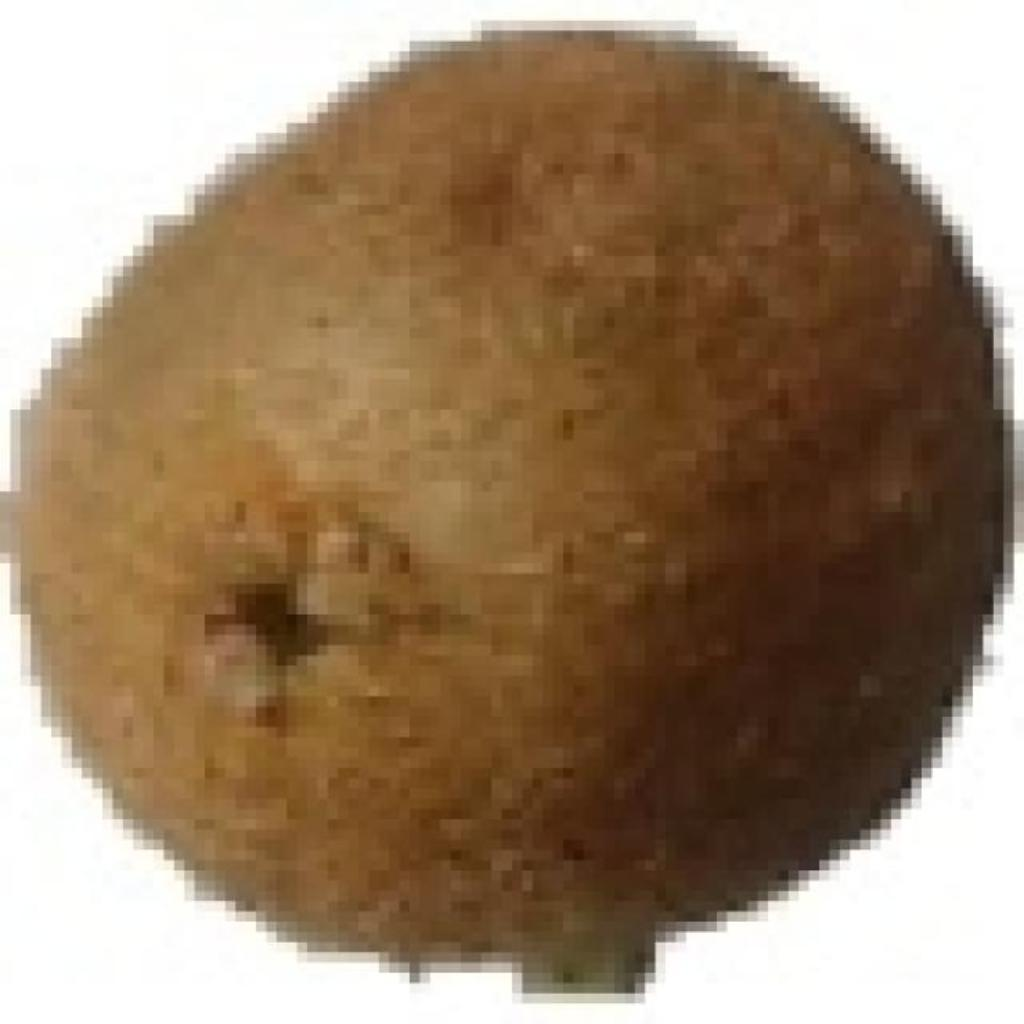kiwi: (10, 20, 983, 973)
